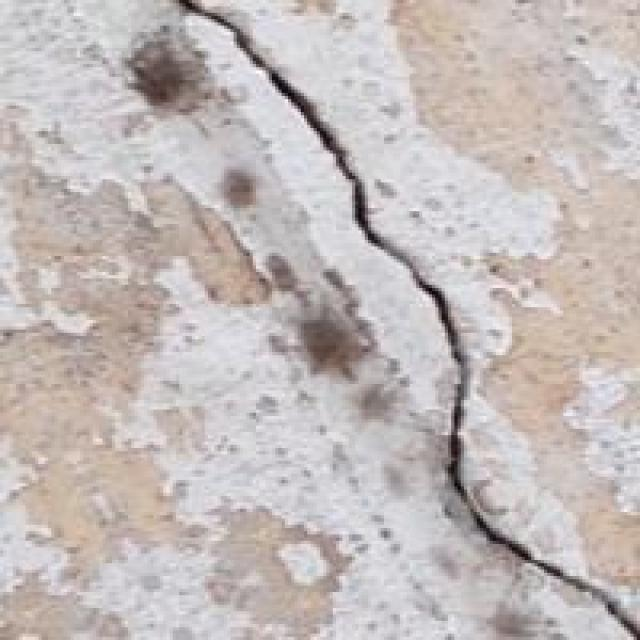Crack: (186, 0, 636, 637)
